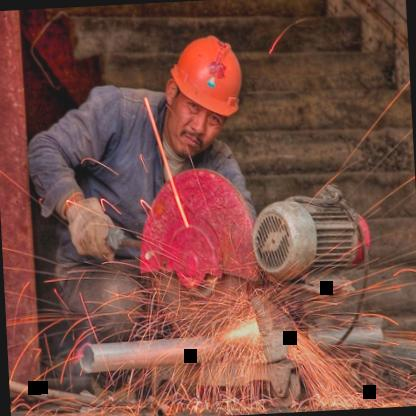helmet: (153, 23, 256, 160)
